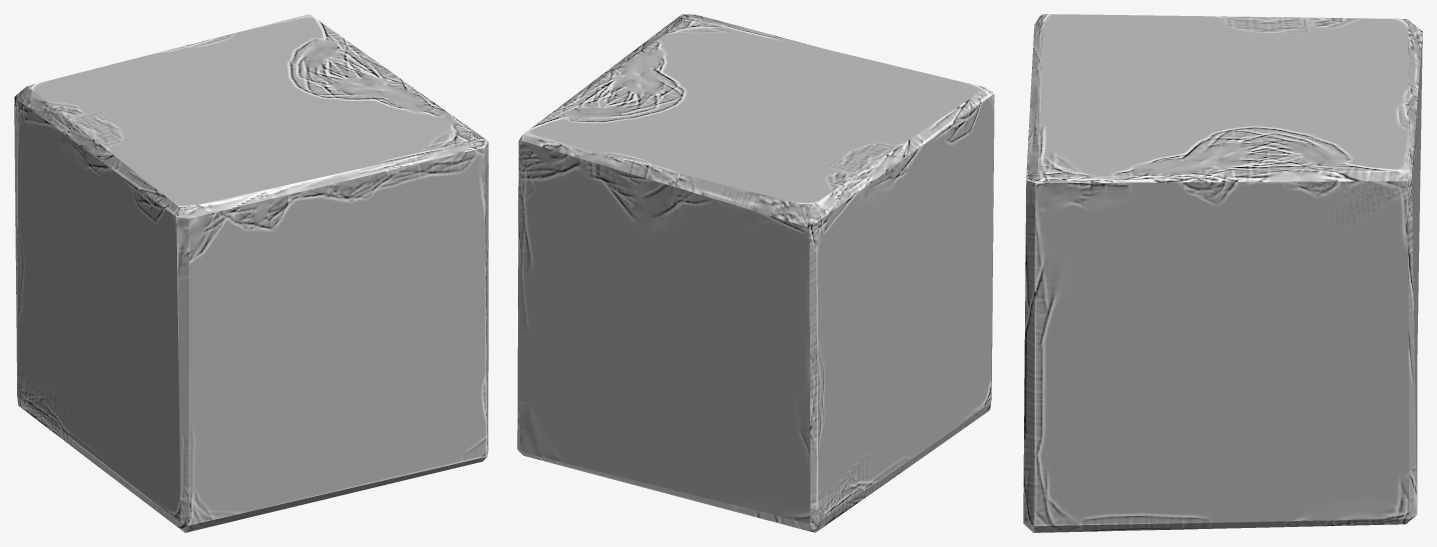
The model's file is Ruin block.fbx.
The picture shows the model from 3 angles, left to right: view 1: azimuth 30°, elevation 25°; view 2: azimuth 150°, elevation 25°; view 3: azimuth 270°, elevation 25°; orthographic projection. The views are drawn at different scales.
Parts seen in each view (by area): view 1: Cube; view 2: Cube; view 3: Cube.
Boxes of the visible parts, bbox=[...] form: Cube: bbox=[14, 14, 488, 532]; Cube: bbox=[517, 14, 994, 532]; Cube: bbox=[1023, 14, 1422, 532].
Size of the model in its own units: 5.8 by 5.8 by 5.82.
1 material, 1 textured.
